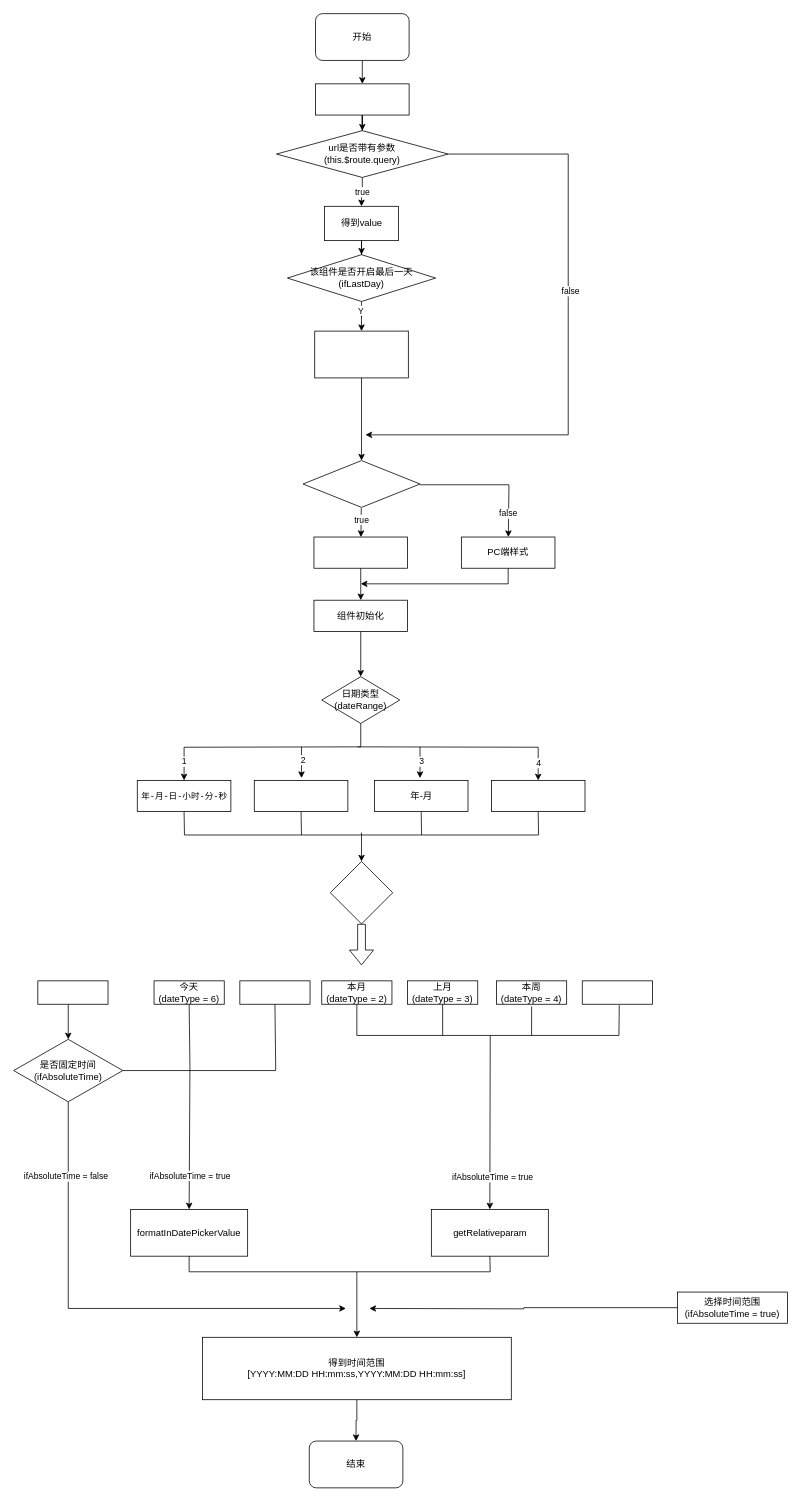
This 801x1502 diagram has some shape labels left out. The shapes that lost their labels are listed below. From the top down, each one's box as (x1, y1, x2, y2) in pixels, then its label:
(315, 83, 409, 115): 时间筛选器组件
(314, 330, 408, 378): 修改value值(getLastDayParam)
(302, 460, 420, 507): 是否移动端/小程序端)(ifMobile)
(313, 536, 408, 568): 移动端样式
(254, 780, 348, 812): 年-月-日
(491, 780, 585, 812): 年-月-周
(330, 861, 393, 924): 时间类型 (dateType)
(37, 980, 108, 1004): 时间范围 (dateType = 1)
(239, 980, 310, 1004): 昨天 (dateType = 7)
(581, 980, 652, 1004): 上周 (dateType = 5)
